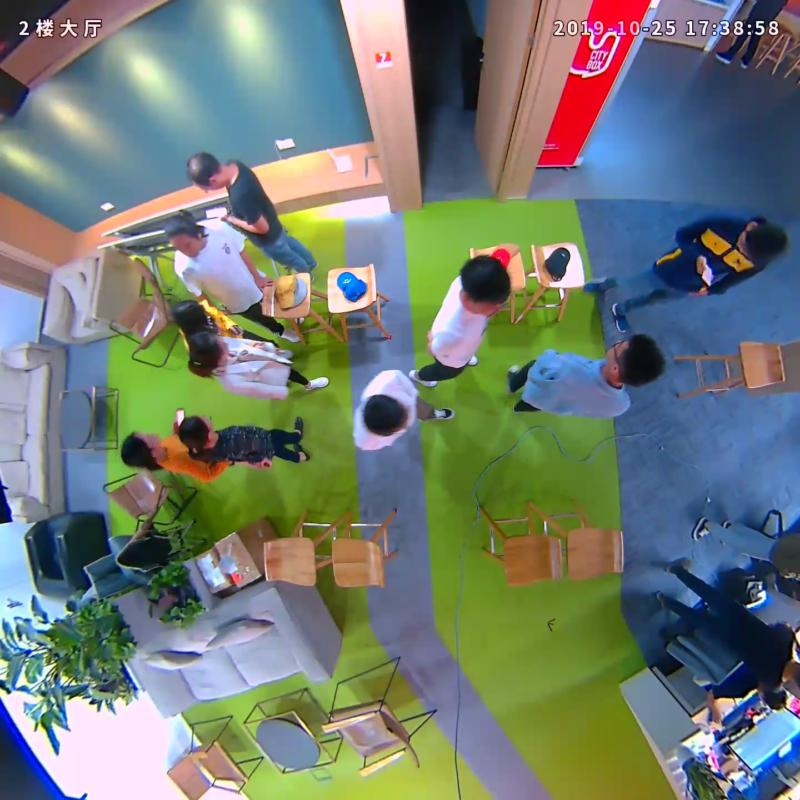head: (603, 333, 665, 388), (460, 255, 511, 317), (736, 219, 786, 262), (362, 394, 409, 437), (189, 327, 231, 369), (163, 214, 203, 258), (120, 432, 162, 469), (186, 152, 225, 191), (171, 299, 209, 334), (177, 415, 214, 447)
